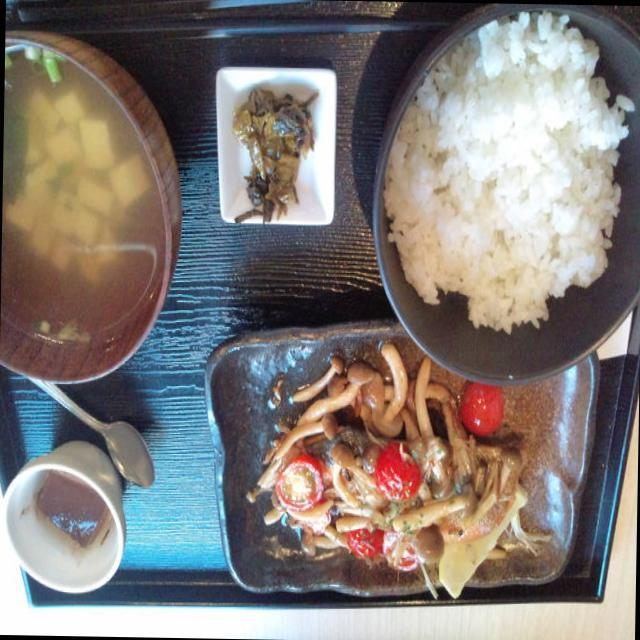Rice: (378, 4, 630, 333)
